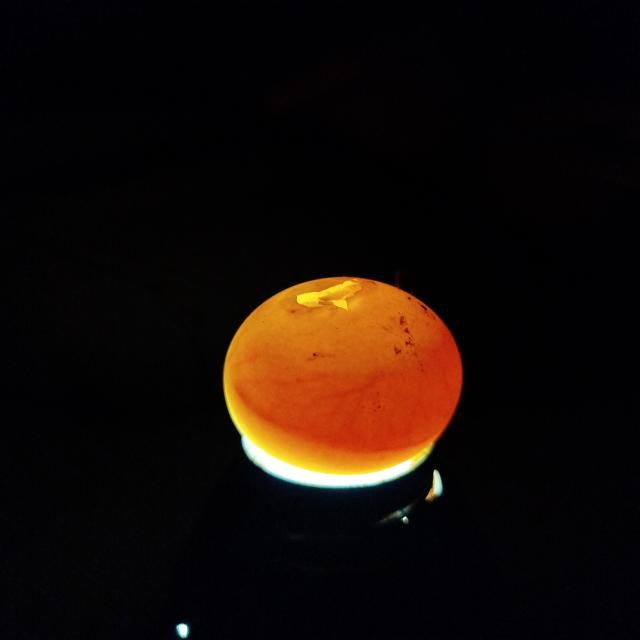Gema Quebrada: (225, 323, 463, 455)
